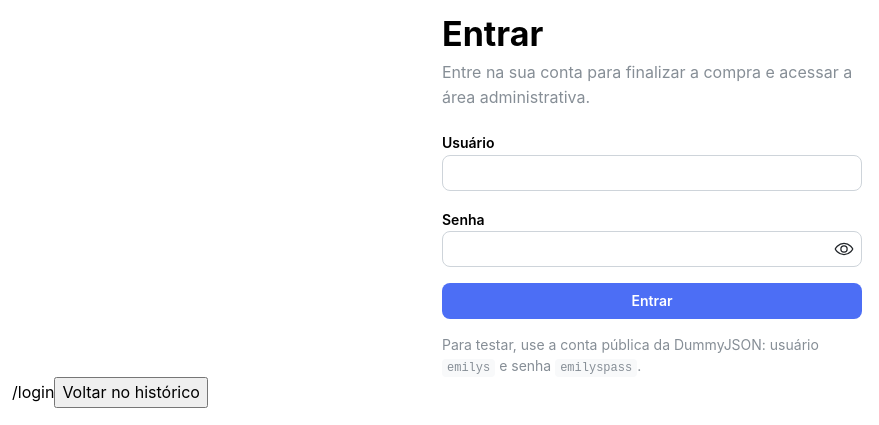
Test case: LoginPage › com um from inválido, vai para o catálogo
Type "emilys" into the field labelled "Usuário" at (652, 173), box [442, 155, 862, 191]
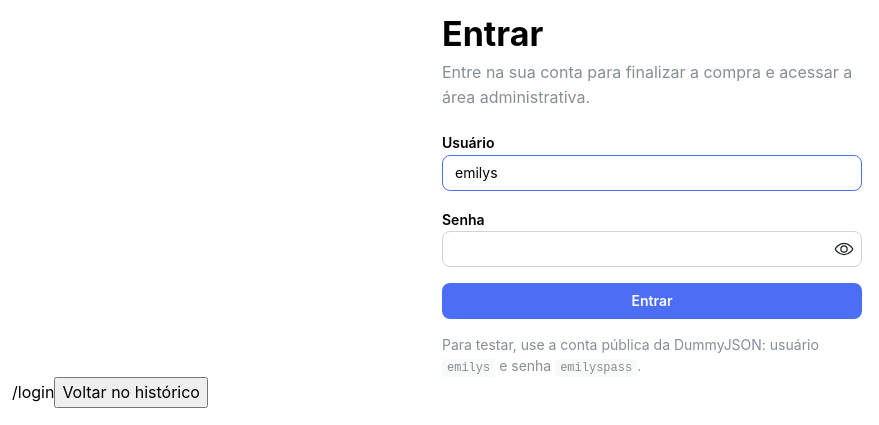
Type "emilyspass" into the password field labelled "Senha" at (652, 249), box [443, 232, 861, 266]
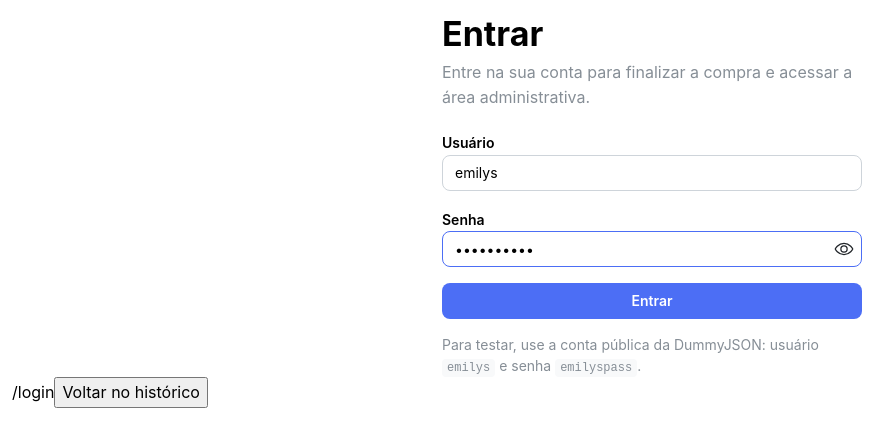
Click the button "Entrar" at (652, 301), box [442, 283, 862, 319]
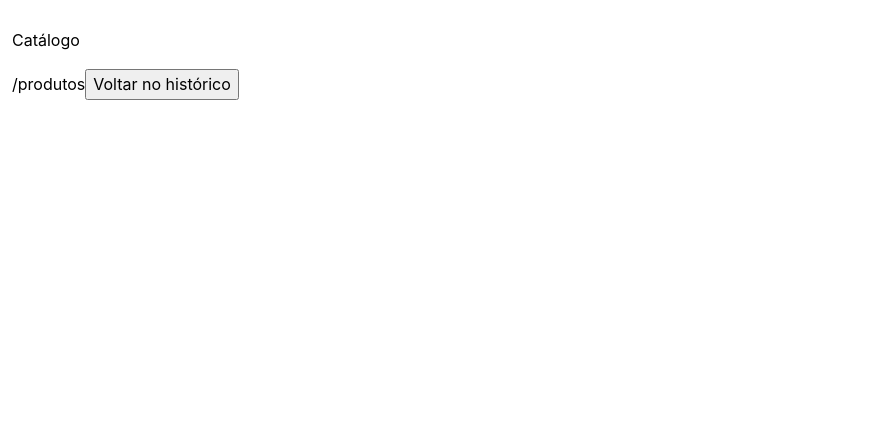
Check: the text "Catálogo" is shown, box [12, 30, 80, 50]
